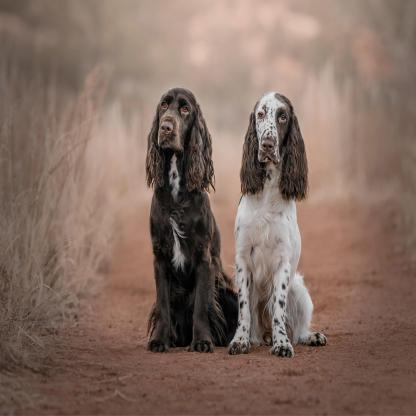Field Spaniel: (233, 86, 326, 372), (140, 78, 224, 366)
